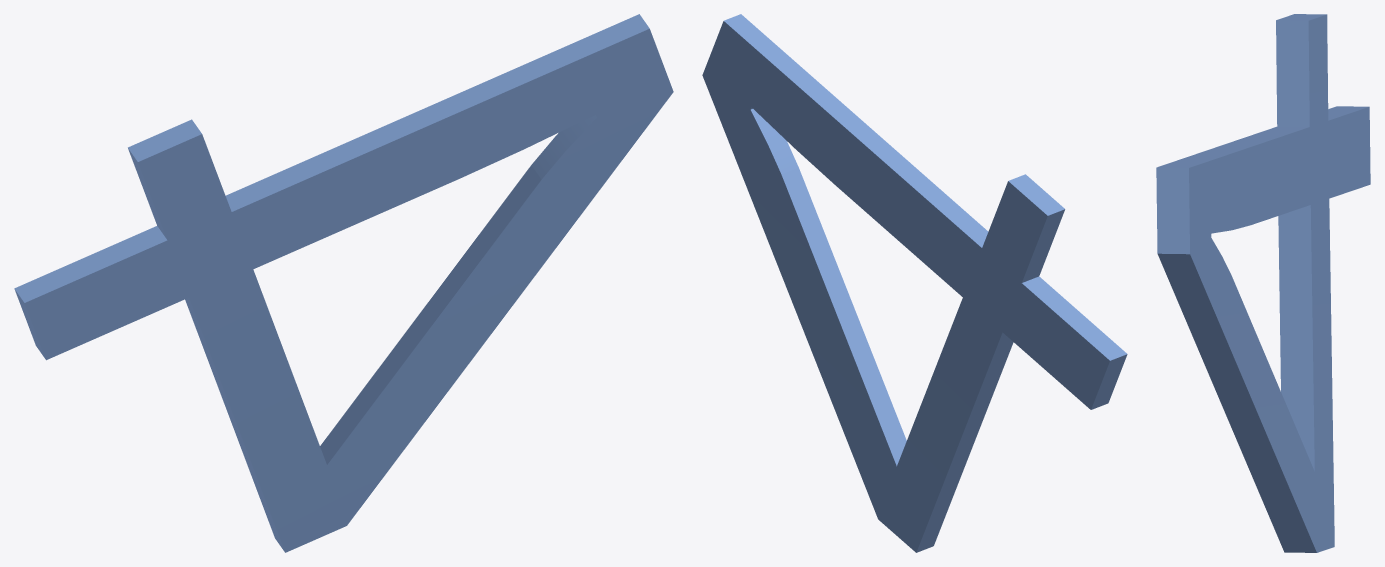
Rendered from New_Number_4.gltf.
The picture shows the model from 3 angles, left to right: view 1: azimuth 30°, elevation 25°; view 2: azimuth 150°, elevation 25°; view 3: azimuth 270°, elevation 25°; orthographic projection. The views are drawn at different scales.
Visible parts, largest first — view 1: Part 463; view 2: Part 463; view 3: Part 463.
Boxes of the visible parts, left/top/right/bottom form: Part 463: left=14, top=14, right=673, bottom=552; Part 463: left=702, top=14, right=1127, bottom=552; Part 463: left=1156, top=14, right=1370, bottom=552.
Bounding box in the file's own units: 0.00531 × 0.0045 × 0.00164.
